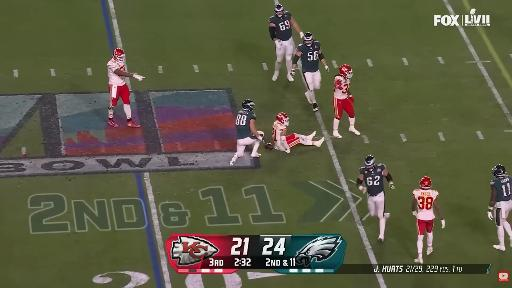Helmet: (492, 164, 506, 178), (339, 65, 352, 78), (276, 113, 289, 126), (113, 48, 124, 63), (420, 176, 431, 189), (365, 155, 375, 169), (242, 100, 254, 111), (275, 4, 284, 17)
Jersey: (360, 164, 385, 195), (413, 190, 438, 220), (297, 41, 320, 72), (490, 175, 512, 203), (269, 12, 291, 40), (235, 110, 255, 139), (108, 59, 125, 85), (334, 75, 349, 99), (273, 121, 286, 145)
Player: (357, 155, 394, 242), (291, 33, 329, 111), (412, 176, 445, 263), (108, 48, 144, 127), (269, 4, 303, 81), (230, 100, 263, 165), (273, 113, 324, 152), (333, 65, 360, 138), (488, 165, 511, 250), (303, 32, 313, 46)
